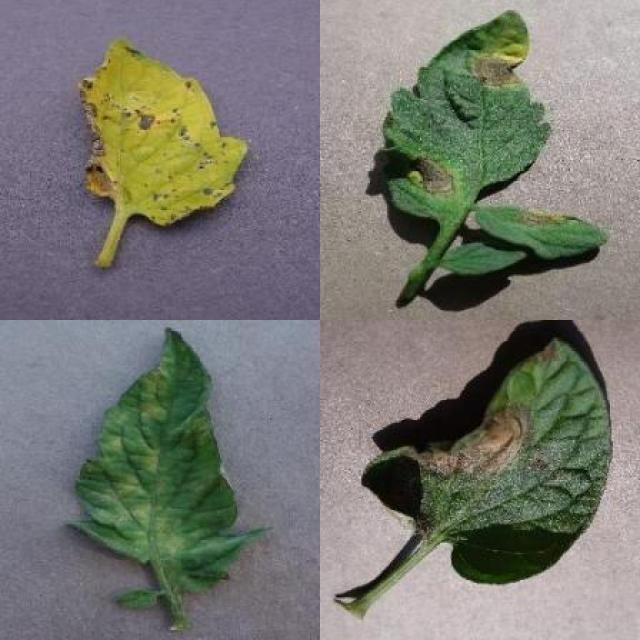Early Blight: (375, 7, 551, 214)
Late Blight: (358, 334, 613, 586)
Leaf Mold: (68, 326, 275, 596)
Septoria: (78, 34, 251, 226)
